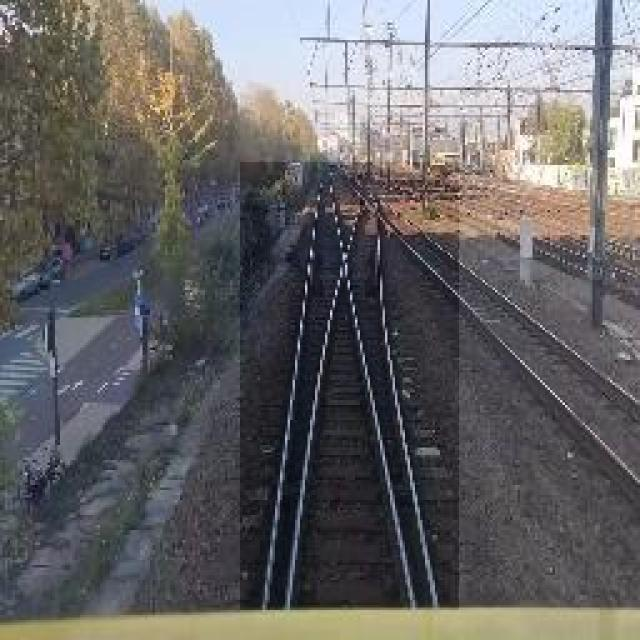rail: (241, 164, 460, 611)
